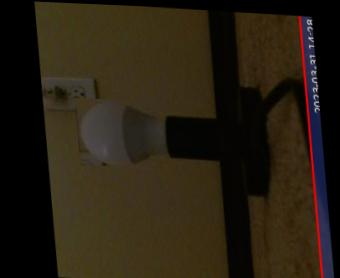Fan: (70, 96, 147, 168)
